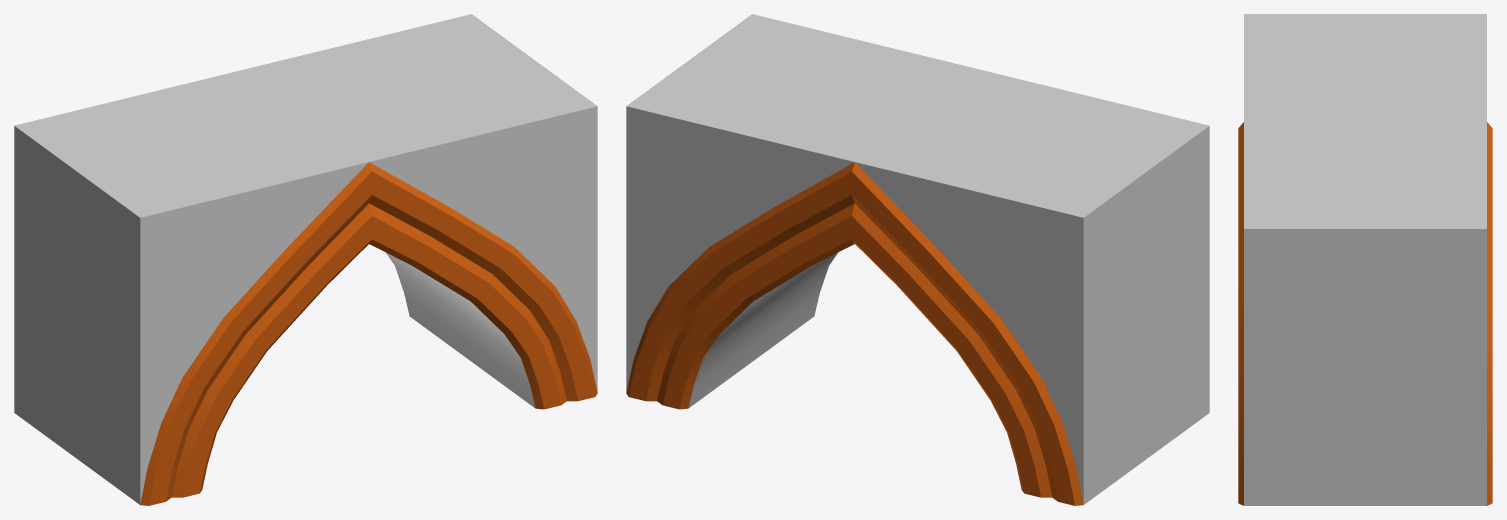
The model's file is dfk_arch_0_blocked_large.fbx.
The picture shows the model from 3 angles, left to right: view 1: azimuth 30°, elevation 25°; view 2: azimuth 150°, elevation 25°; view 3: azimuth 270°, elevation 25°; orthographic projection. The views are drawn at different scales.
Parts seen in each view (by area): view 1: Arch_1a_block_2; view 2: Arch_1a_block_2; view 3: Arch_1a_block_2.
Part boxes in pixels (box(x1,y1,x2,y2)): Arch_1a_block_2: box(14, 14, 597, 505); Arch_1a_block_2: box(626, 14, 1209, 505); Arch_1a_block_2: box(1238, 14, 1492, 505).
Size of the model in its own units: 5 by 3 by 2.5.
